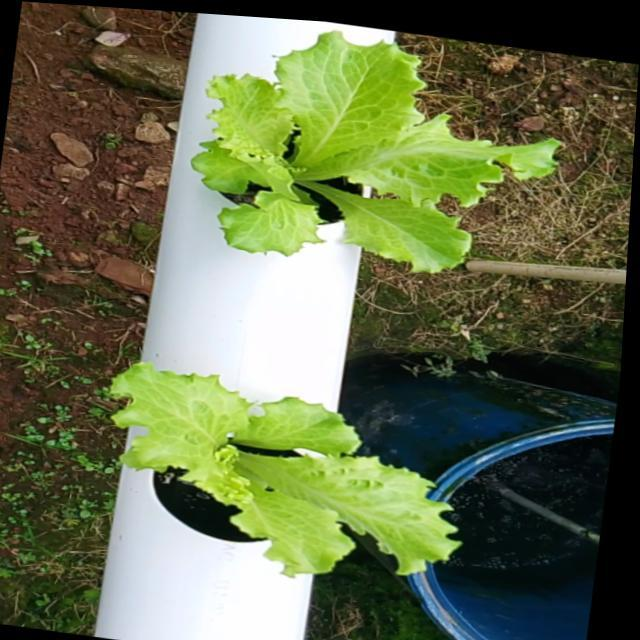Baby: (188, 27, 557, 273), (104, 365, 458, 582)
